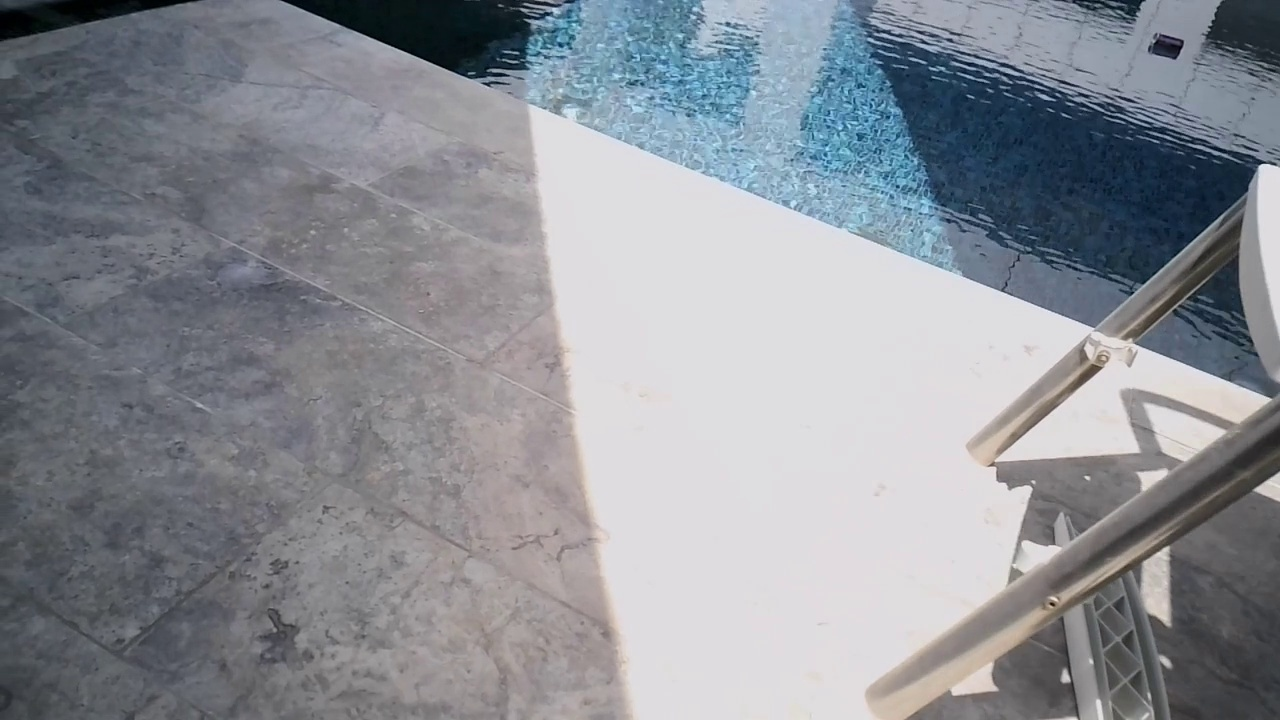debris: (1148, 25, 1187, 64)
